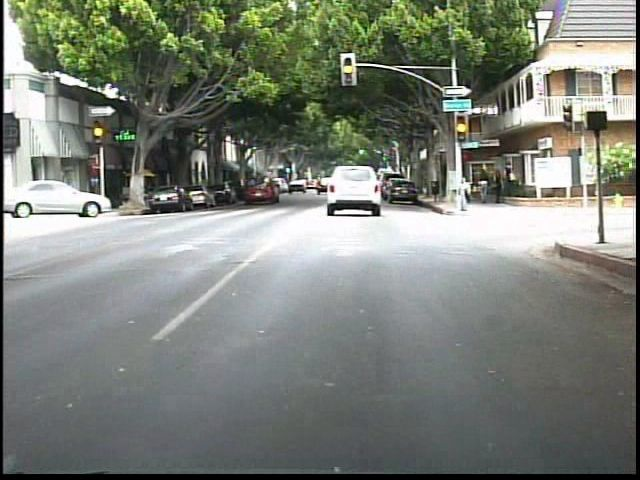person: (453, 172, 475, 213), (502, 160, 517, 196), (477, 168, 492, 203), (491, 167, 504, 206)
